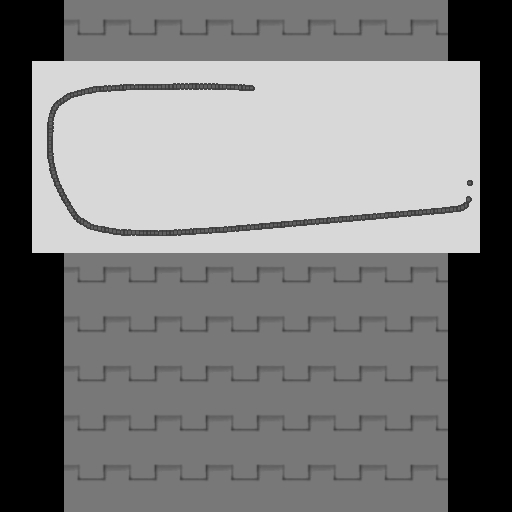Defect: (253, 78, 454, 115)
